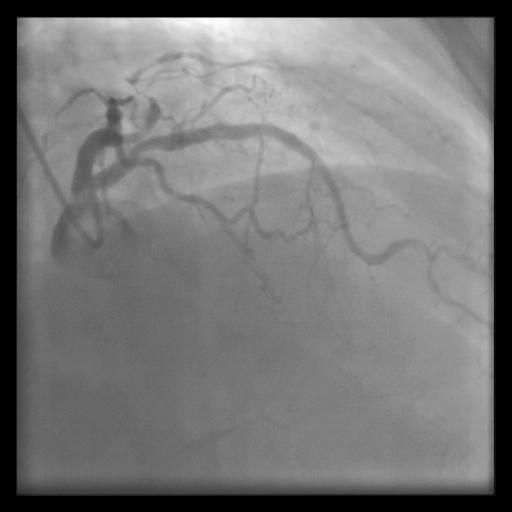Stenosis: (129, 137, 168, 155)
